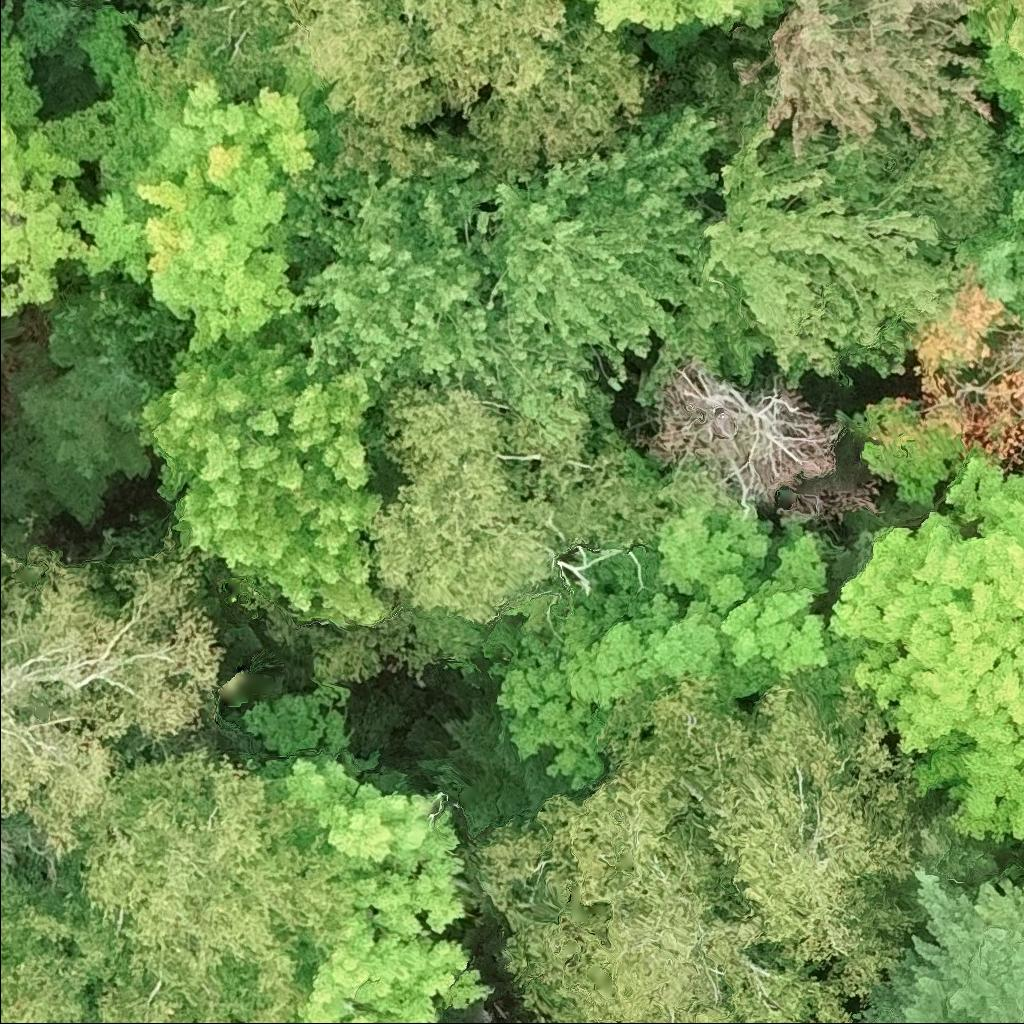crown: (636, 62, 969, 410), (476, 724, 858, 1023), (487, 494, 856, 794), (607, 679, 923, 1009), (364, 376, 743, 625), (243, 692, 500, 1023), (479, 102, 720, 442), (825, 447, 1023, 845), (63, 745, 358, 1001), (76, 70, 342, 353), (133, 334, 388, 626), (0, 536, 226, 857), (284, 154, 514, 401), (175, 0, 468, 181), (723, 0, 995, 160), (456, 0, 661, 184), (638, 356, 841, 512), (13, 329, 163, 525), (0, 0, 92, 317), (850, 868, 1023, 1023), (401, 0, 579, 116), (881, 101, 1023, 244), (0, 864, 126, 1023), (86, 953, 297, 1023), (955, 185, 1023, 329), (914, 787, 1001, 892), (965, 8, 1023, 163), (579, 0, 791, 33), (975, 0, 1023, 61), (82, 1000, 94, 1023)
